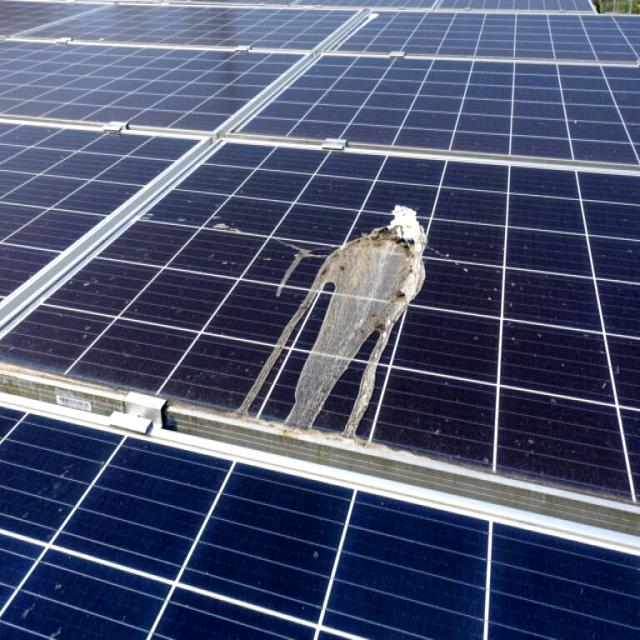bird: (289, 176, 428, 426)
